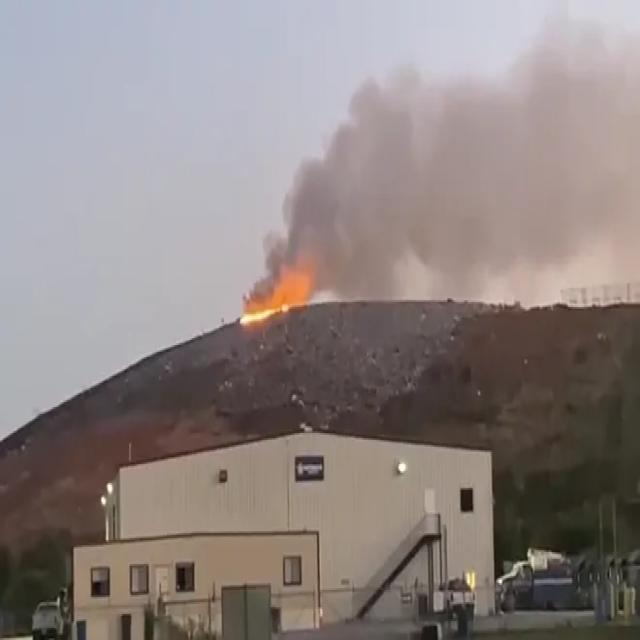Fire: (237, 290, 291, 330)
Smoke: (291, 44, 633, 296)
